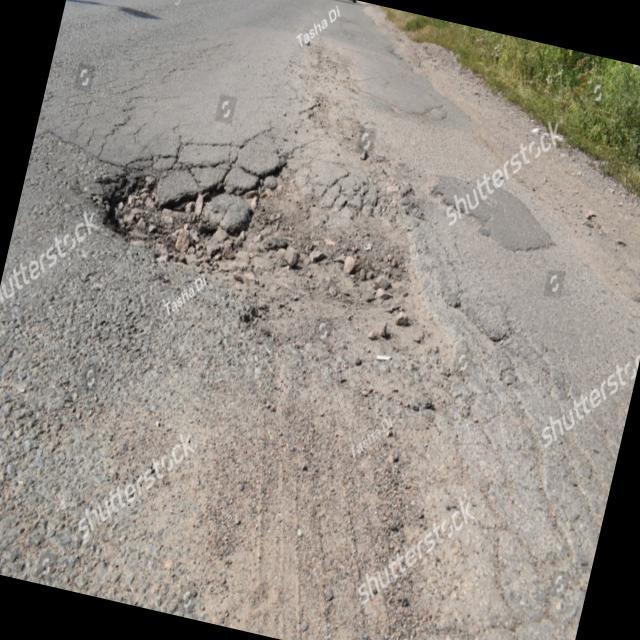Pothole: (80, 113, 434, 342)
